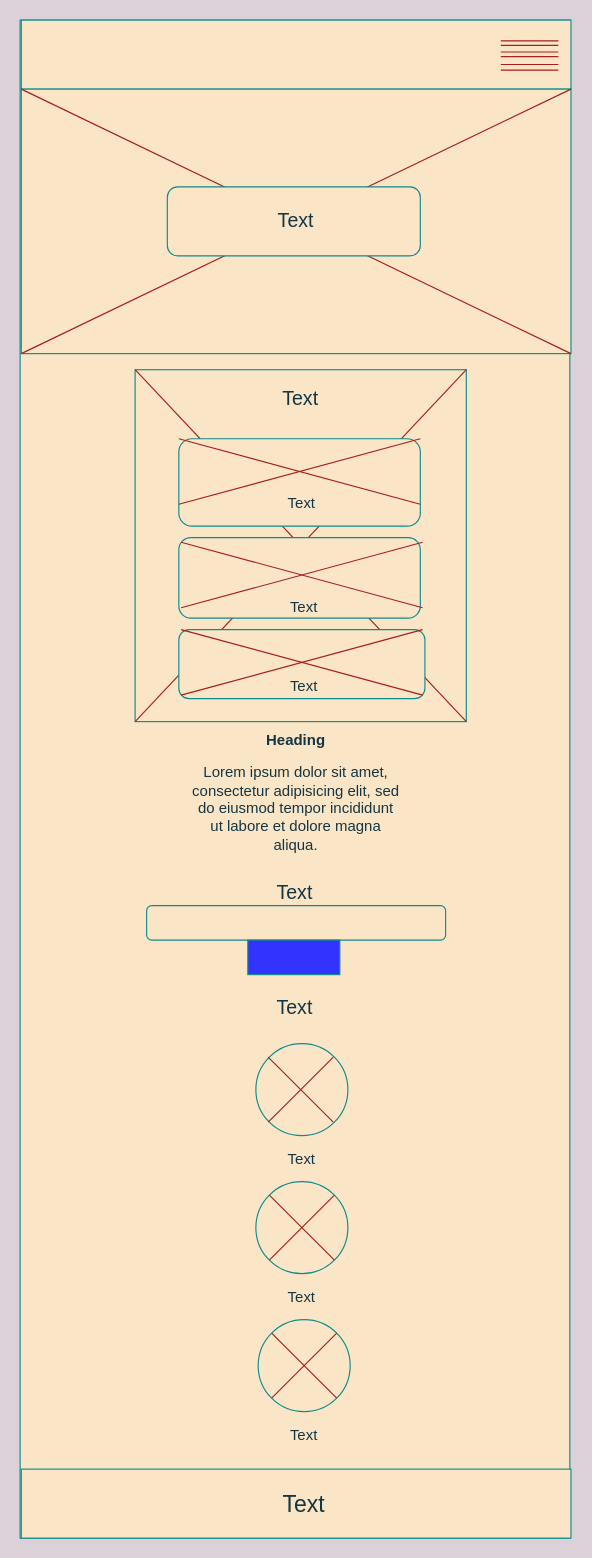
Image size: 592x1558. Some labels were removed from this diagram. The centre of each missing label's shape, as x and y in pixels:
"Boton" belongs at point (293, 957).
"Titulo de la pagina web" belongs at point (295, 54).
